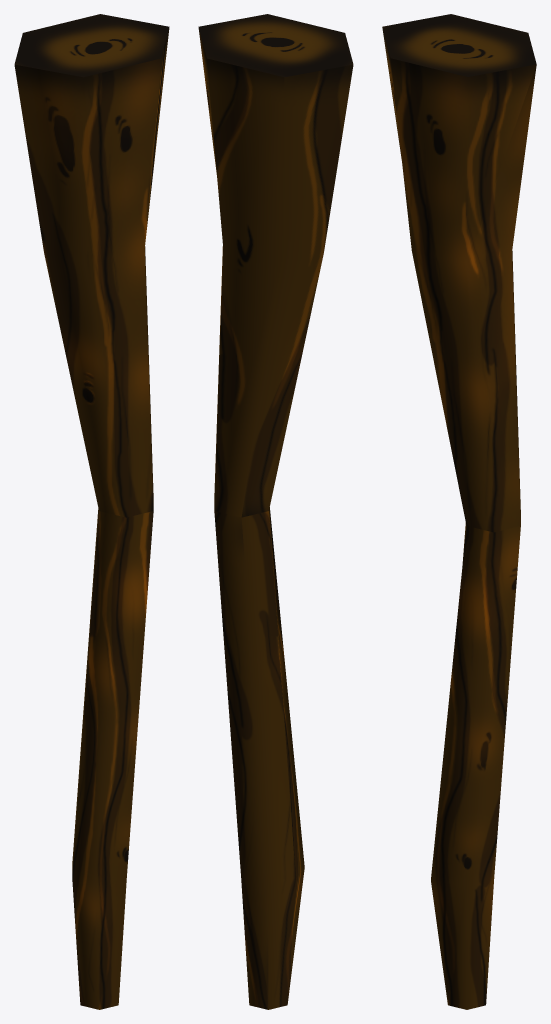
The model's file is WalkingStick.FBX.
3 renders of one model, left to right at view 1: azimuth 30°, elevation 25°; view 2: azimuth 150°, elevation 25°; view 3: azimuth 330°, elevation 25°, orthographic.
Visible parts, largest first — view 1: WalkingStick; view 2: WalkingStick; view 3: WalkingStick.
Part boxes in pixels (bbox=[...]): WalkingStick: bbox=[14, 14, 169, 1009]; WalkingStick: bbox=[198, 14, 353, 1009]; WalkingStick: bbox=[382, 14, 536, 1009].
Bounding box in the file's own units: 54.68 × 322 × 37.09.
